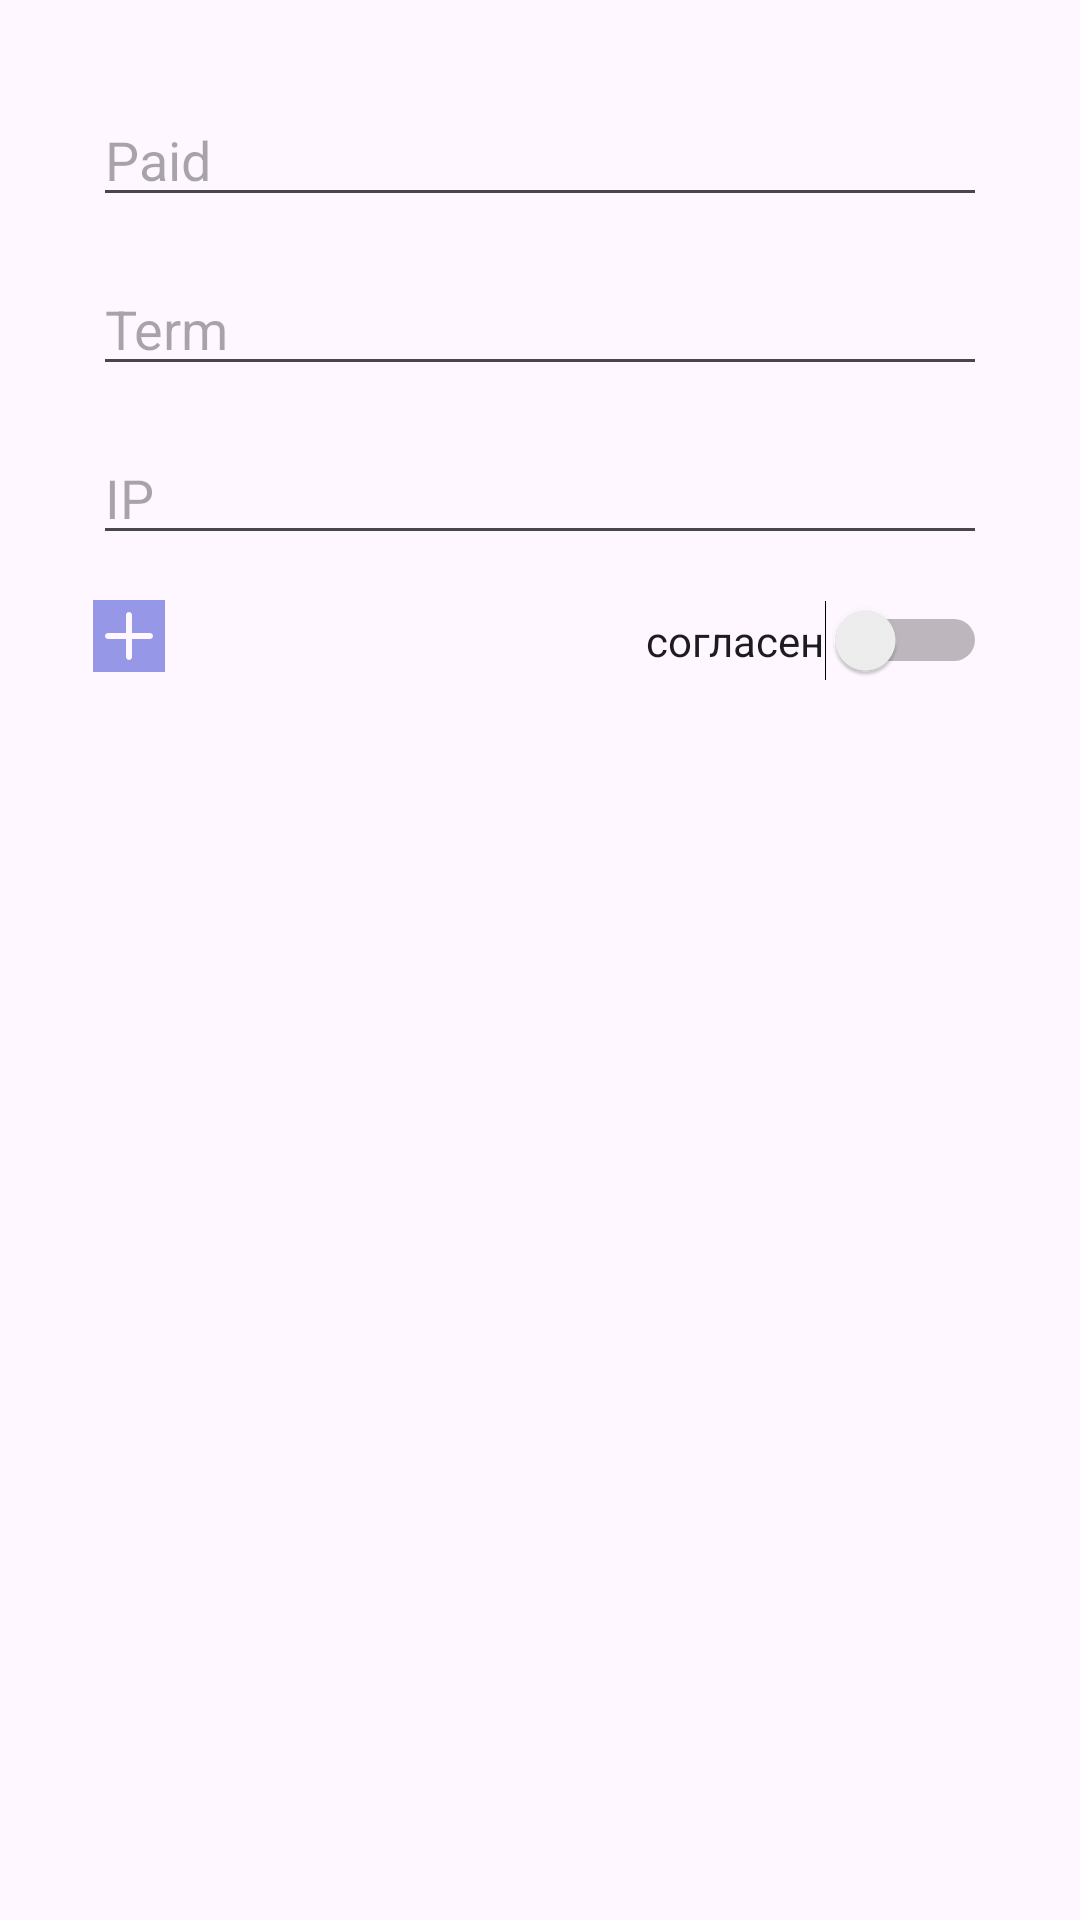

Screen size 1080*1920. Icon name, then its center in pixels as (x=x, y=y):
indeterminate check box plus: (x=129, y=636)
